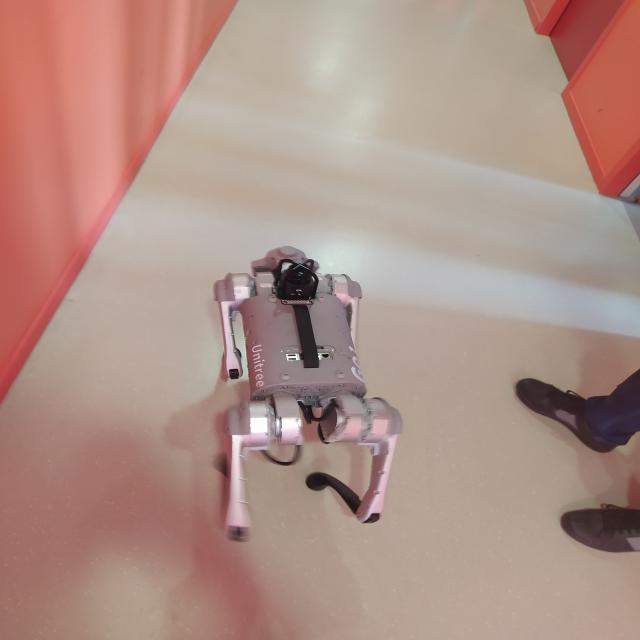unitree-go1-robot: (216, 248, 395, 550)
